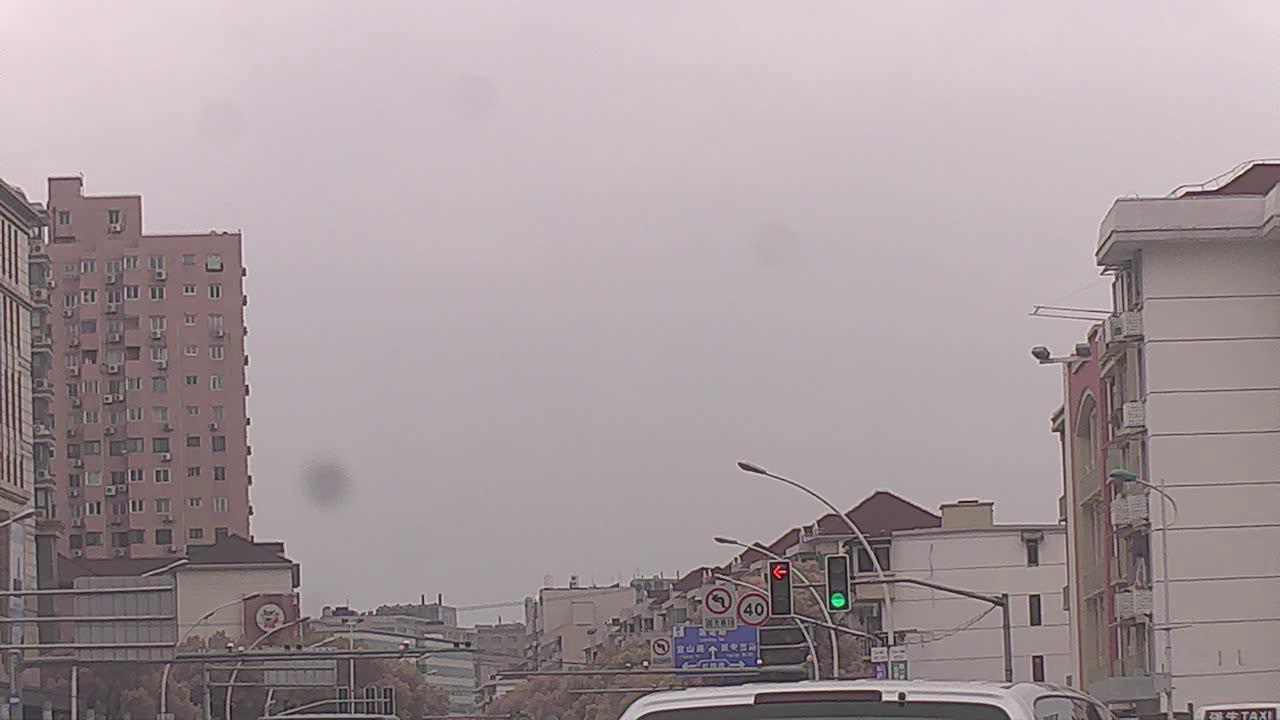traffic_light: (825, 554, 852, 613), (768, 560, 795, 617)
